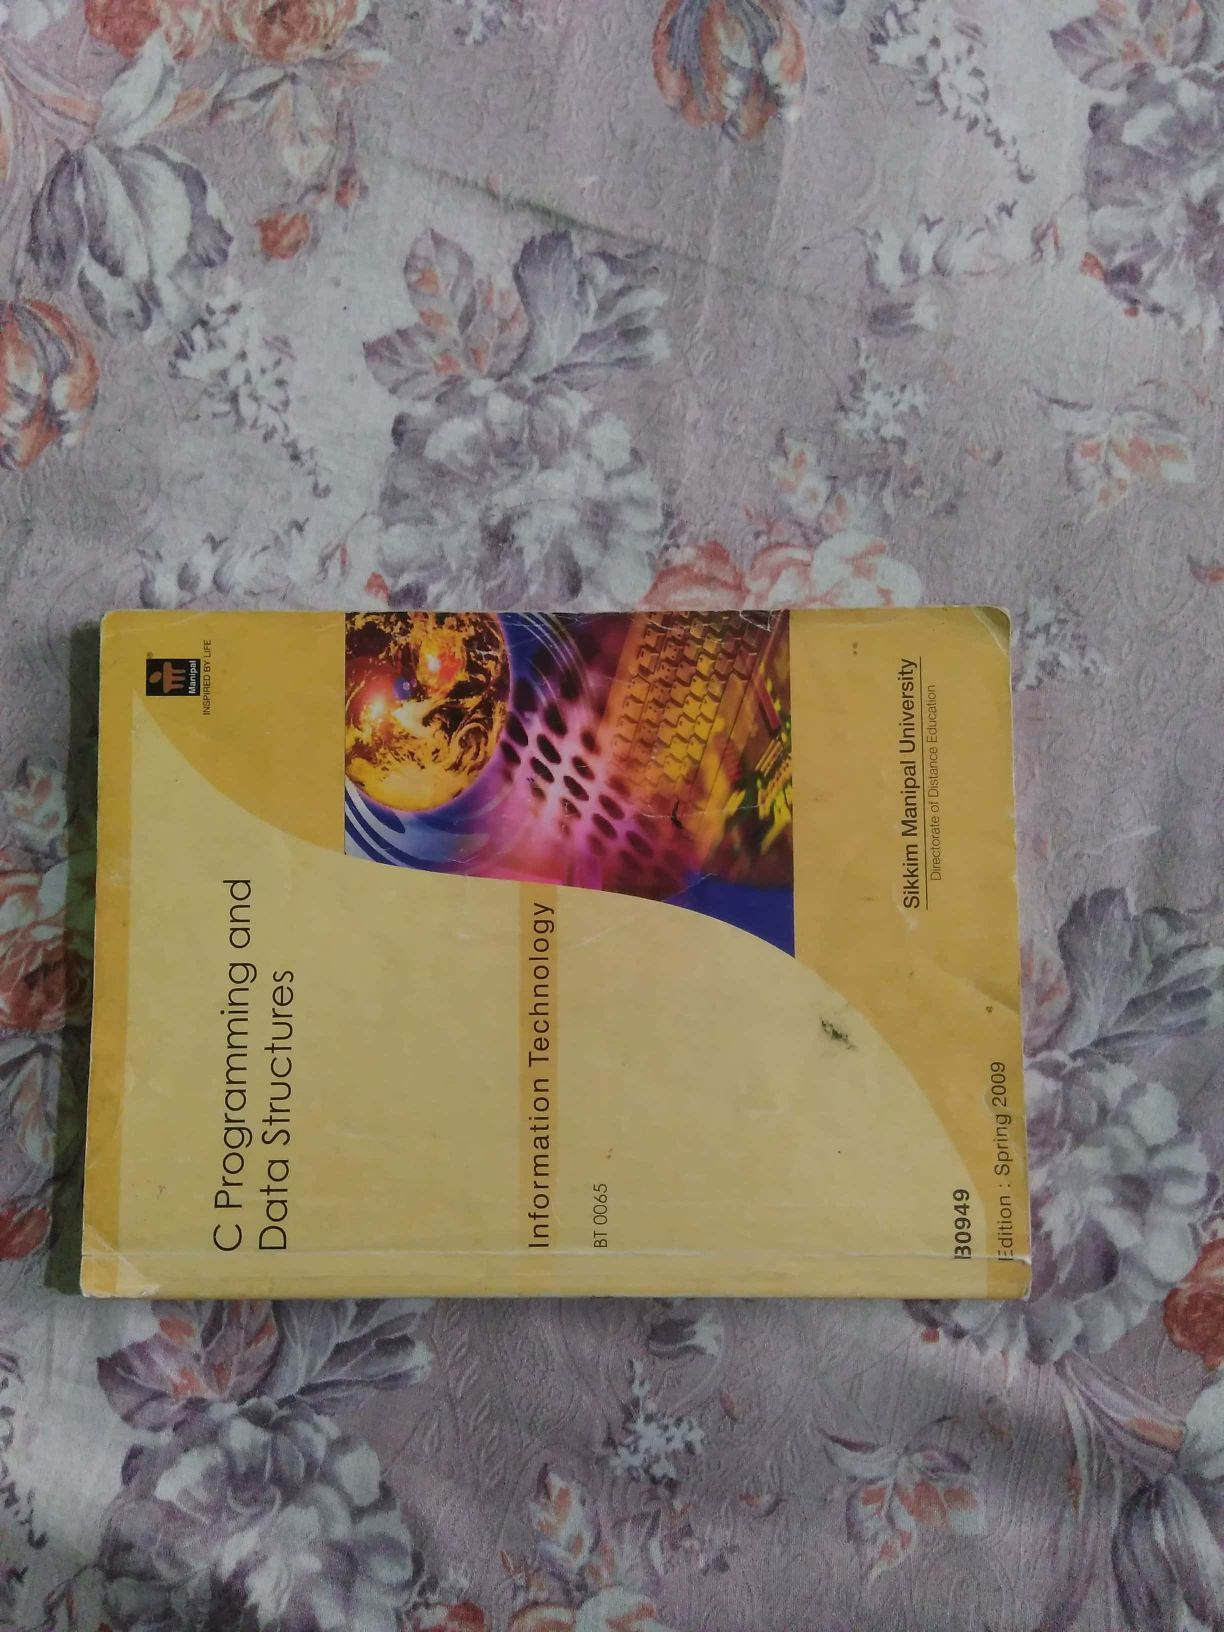clang: (46, 562, 1098, 1366)
